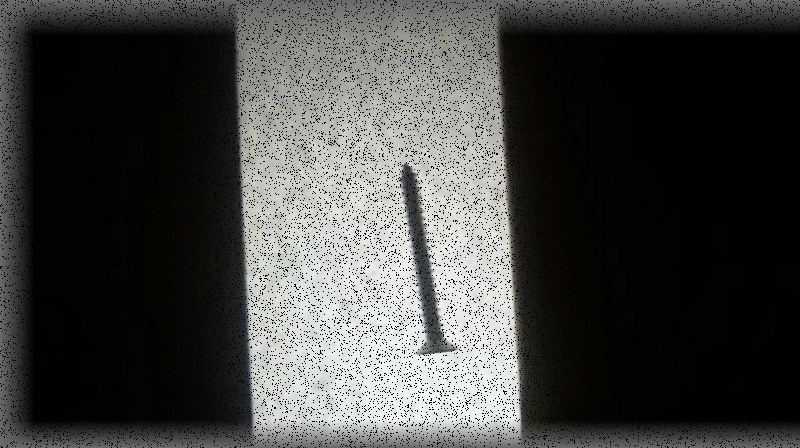S002: (396, 159, 461, 358)
